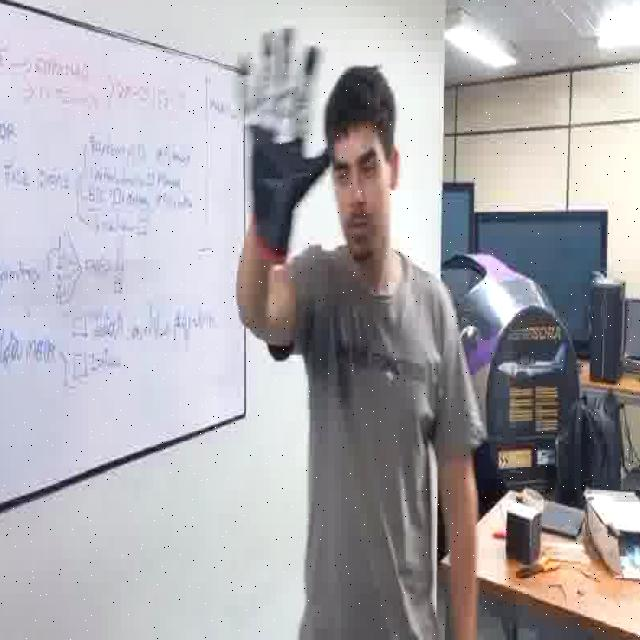Gloves: (239, 26, 332, 258)
